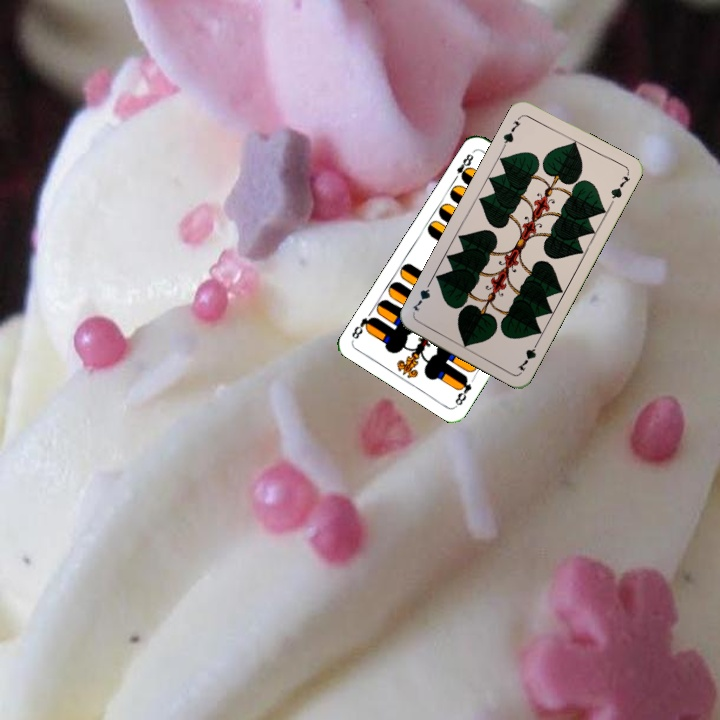E8: (449, 149, 476, 184), (451, 372, 474, 409)
G7: (513, 336, 542, 374), (499, 117, 524, 150)
